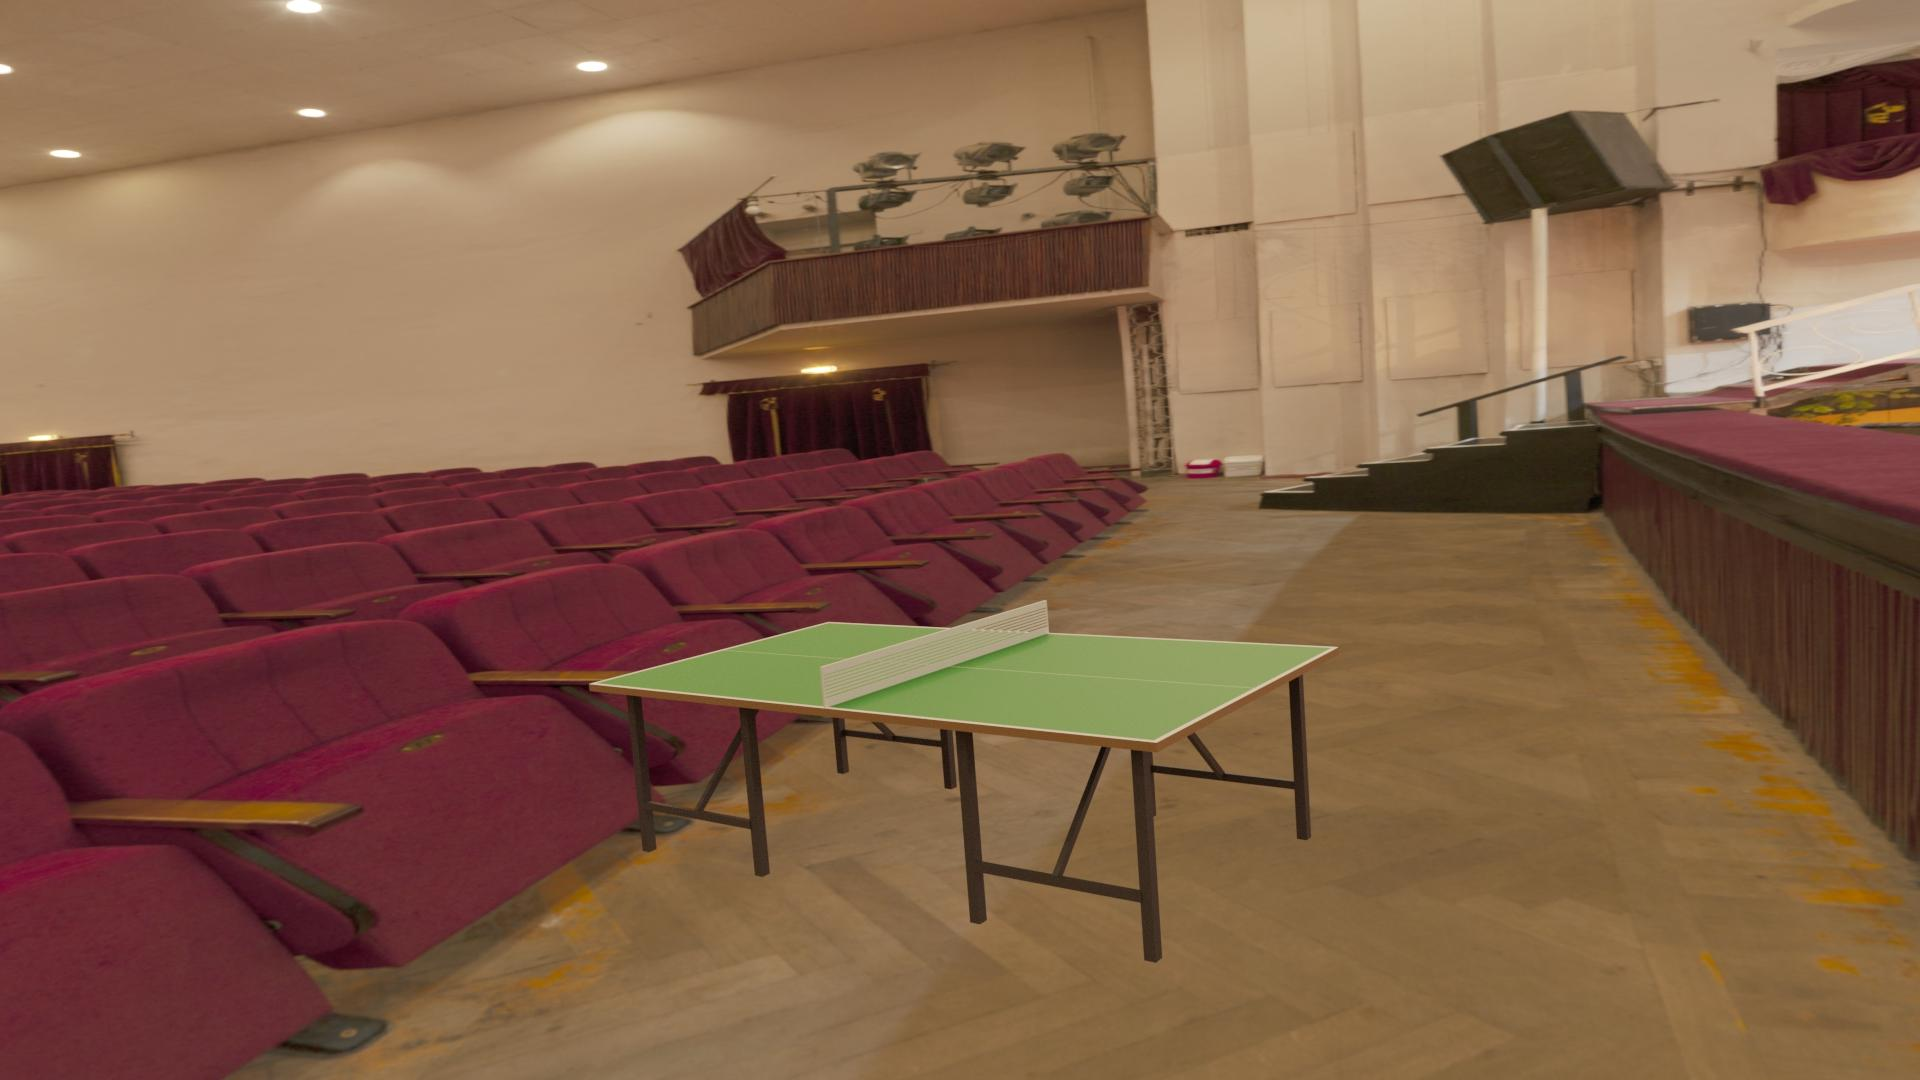table: (596, 622, 1332, 740)
